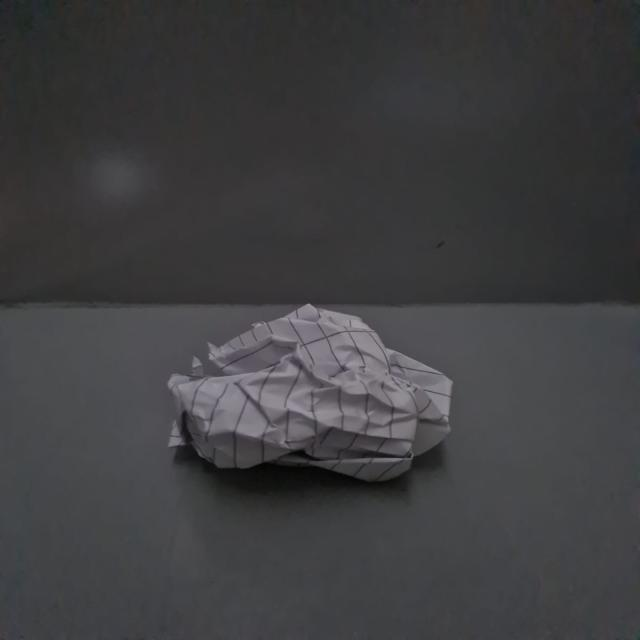Paper: (159, 301, 464, 490)
